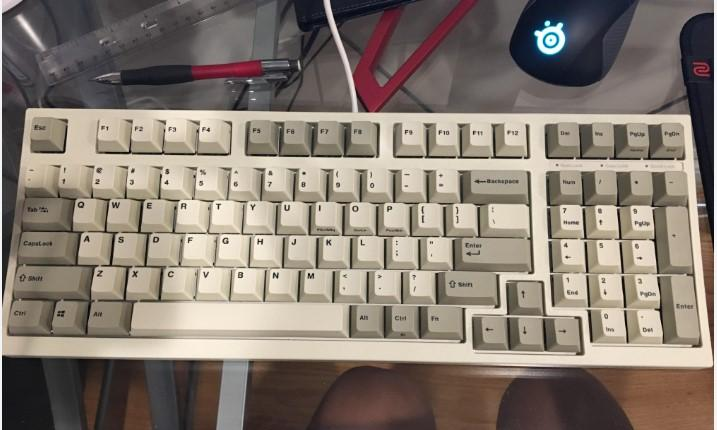Keyboard: (0, 109, 712, 370)
